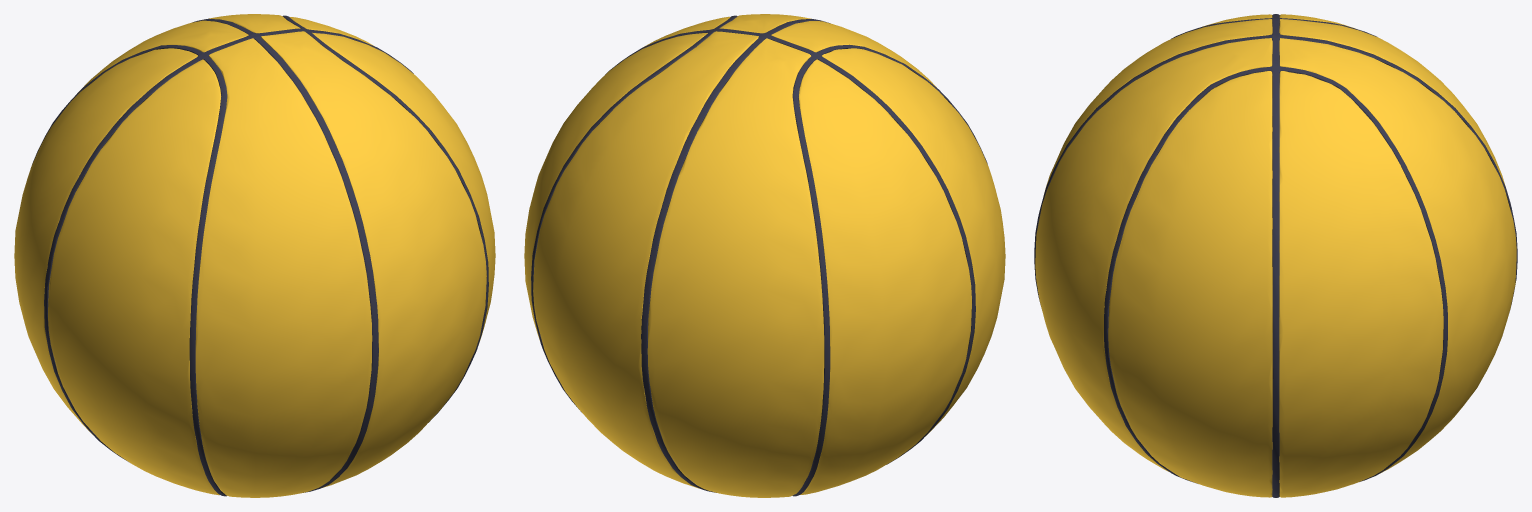
The model's file is explainer-poc-basketball.glb.
3 renders of one model, left to right at view 1: azimuth 30°, elevation 25°; view 2: azimuth 150°, elevation 25°; view 3: azimuth 270°, elevation 25°, orthographic.
Visible parts, largest first — view 1: Ball, Lines; view 2: Ball, Lines; view 3: Ball, Lines.
Part boxes in pixels (box(x1,y1,x2,y2)): Ball: box(14, 14, 495, 497); Lines: box(32, 15, 488, 496); Ball: box(524, 14, 1005, 497); Lines: box(531, 15, 987, 496); Ball: box(1035, 14, 1516, 497); Lines: box(1034, 14, 1517, 497).
Size of the model in its own units: 0.0252 by 0.0254 by 0.0252.
